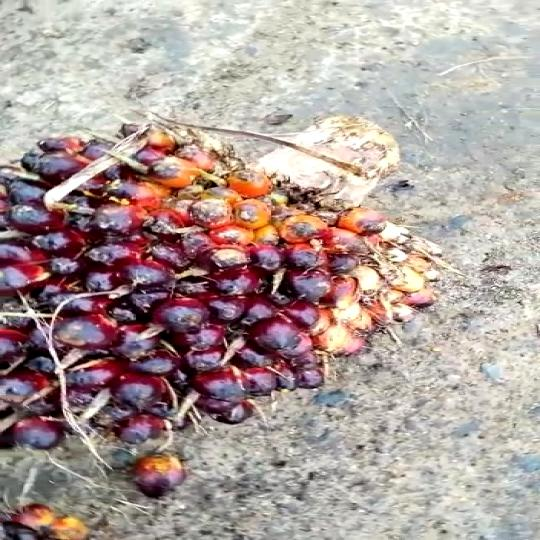kurang masak: (0, 102, 490, 501)
